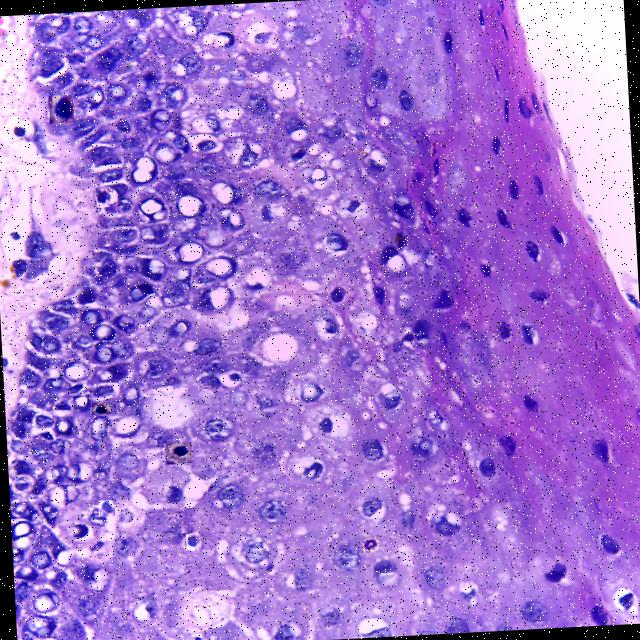Nuclear Hyperchromatism: (48, 95, 73, 123), (165, 443, 191, 464), (186, 534, 198, 553), (90, 403, 109, 415), (96, 188, 108, 207), (98, 501, 113, 516)
